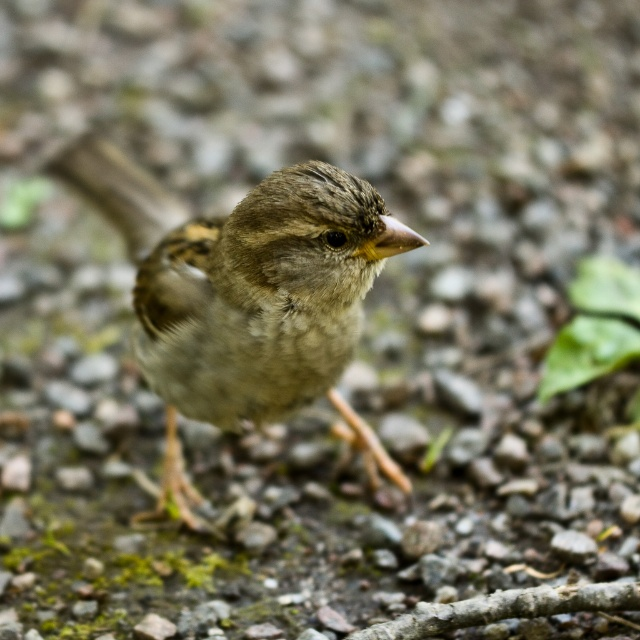Sparrow: (125, 159, 431, 529)
